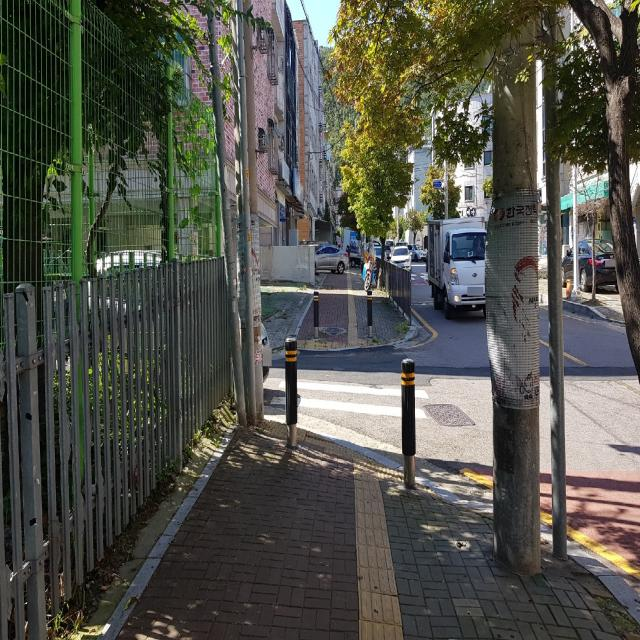횡단보도: (270, 379, 429, 420)
